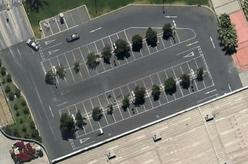parkingspot: (59, 54, 209, 126), (65, 70, 215, 141), (46, 30, 182, 94), (40, 29, 131, 78), (38, 4, 93, 39)
